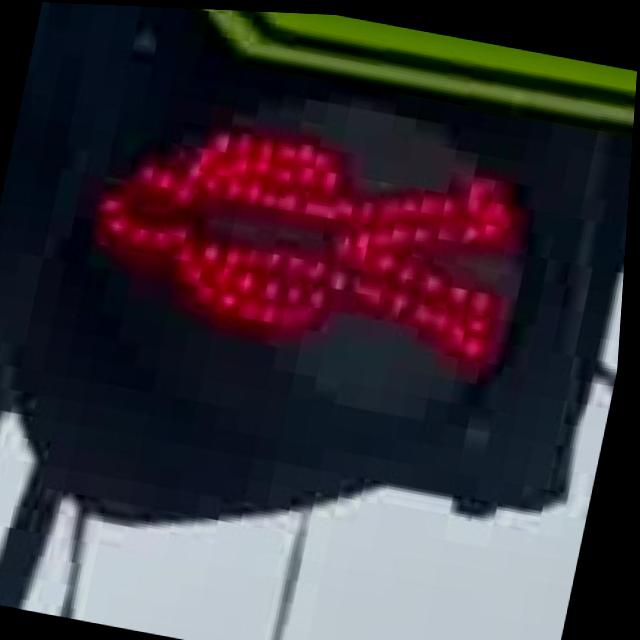red_light: (45, 90, 554, 388)
